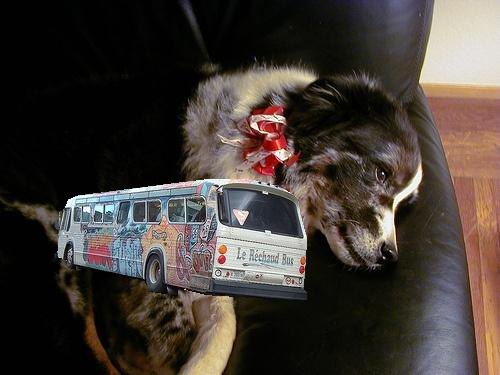tampered: (55, 180, 307, 300)
